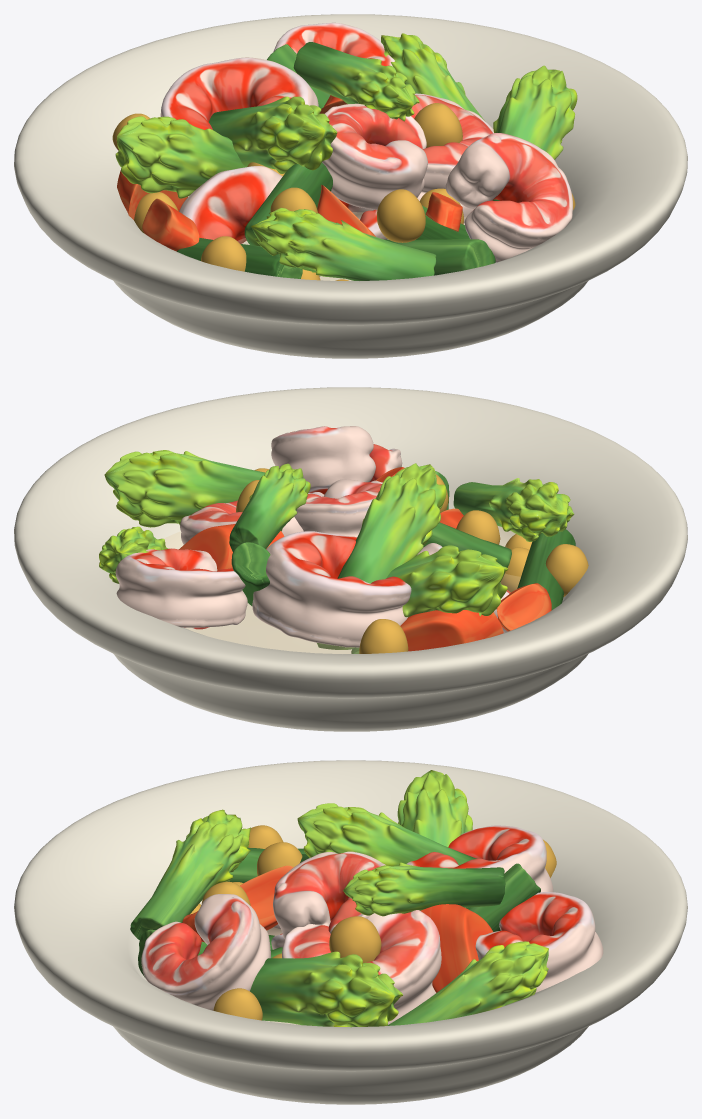
The model's file is cook-loosun.glb.
The picture shows the model from 3 angles, top to bottom: view 1: azimuth 30°, elevation 25°; view 2: azimuth 150°, elevation 25°; view 3: azimuth 270°, elevation 25°; orthographic projection.
Parts seen in each view (by area): view 1: object; view 2: object; view 3: object.
Boxes of the visible parts, <box> form: object: <box>14,14,687,358</box>; object: <box>14,387,687,731</box>; object: <box>14,760,687,1104</box>.
Size of the model in its own units: 0.6992 by 0.2187 by 0.6992.
6 materials, 3 textured.
